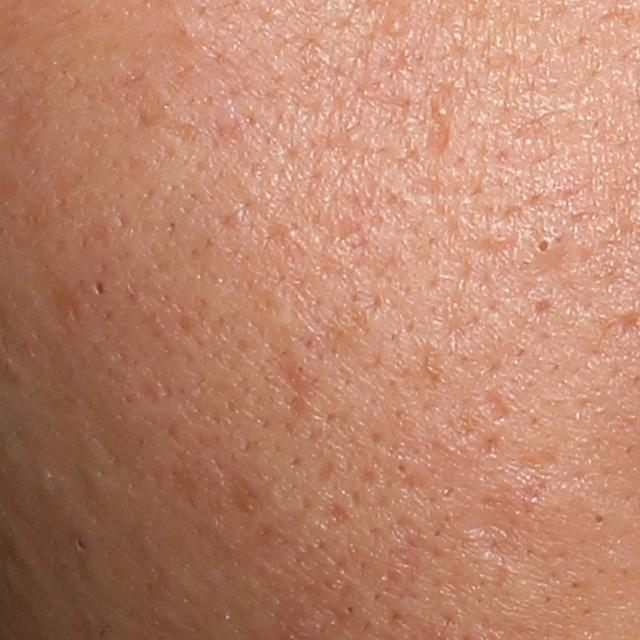atrophic_scar: (424, 115, 456, 165), (483, 383, 511, 427)
comedo: (525, 228, 558, 263), (380, 15, 407, 42), (391, 459, 413, 479), (591, 510, 606, 527)
